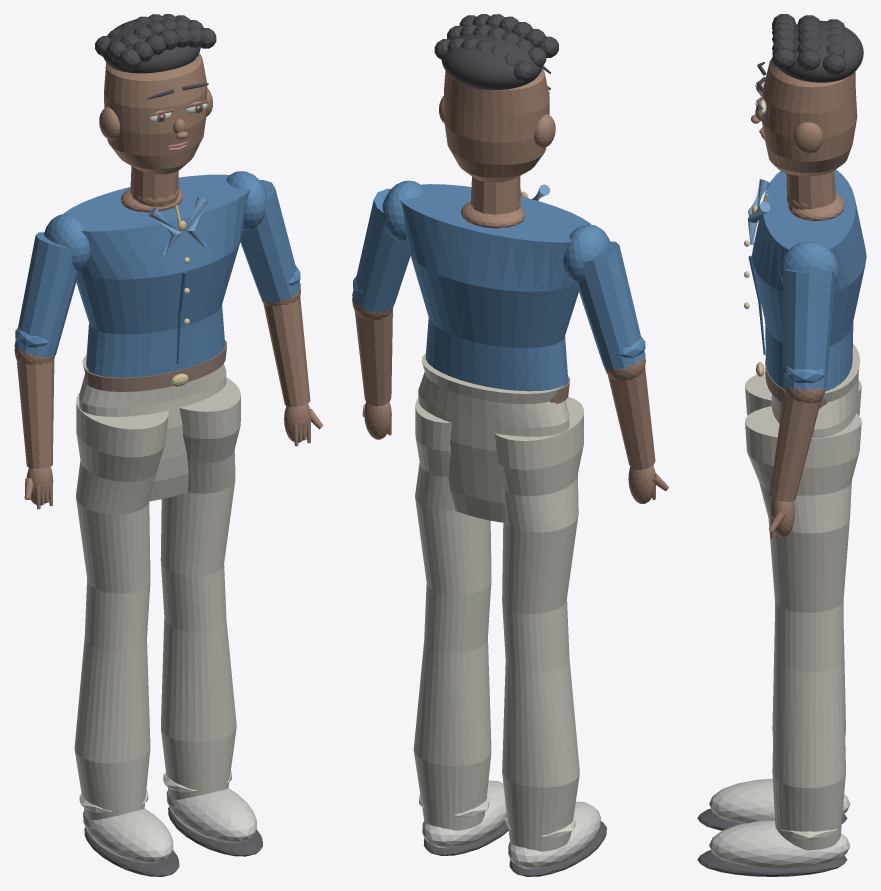
The model's file is kai_model_v1_3.glb.
3 renders of one model, left to right at view 1: azimuth 30°, elevation 25°; view 2: azimuth 150°, elevation 25°; view 3: azimuth 270°, elevation 25°, orthographic. The views are drawn at different scales.
Parts seen in each view (by area): view 1: L_trouser_003, R_trouser_007, torso_010, face_skin_044, pelvis_009, L_upper_arm_020, R_upper_arm_031, L_shoe_001, R_shoe_005, L_forearm_023, R_forearm_034, belt_017 (+8 smaller); view 2: L_trouser_003, torso_010, R_trouser_007, pelvis_009, face_skin_044, L_upper_arm_020, R_upper_arm_031, hair_cap_065, L_forearm_023, R_forearm_034, L_shoe_001, R_shoe_005 (+8 smaller); view 3: R_trouser_007, torso_010, face_skin_044, R_upper_arm_031, R_shoe_005, R_forearm_034, L_shoe_001, pelvis_009, hair_cap_065, R_sole_006, R_shoulder_cap_030, neck_042 (+13 smaller).
Part boxes in pixels (x1,y1,x2,y2): L_trouser_003: (74, 393, 168, 820); R_trouser_007: (160, 377, 240, 799); torso_010: (63, 174, 249, 377); face_skin_044: (104, 53, 207, 174); pelvis_009: (79, 355, 226, 501); L_upper_arm_020: (14, 232, 78, 357); R_upper_arm_031: (240, 179, 300, 302); L_shoe_001: (83, 808, 173, 863); R_shoe_005: (166, 788, 257, 842); L_forearm_023: (17, 359, 54, 468); R_forearm_034: (263, 297, 310, 406); belt_017: (84, 340, 226, 391); L_trouser_003: (494, 397, 583, 851); torso_010: (400, 184, 591, 391); R_trouser_007: (413, 398, 491, 830); pelvis_009: (418, 353, 569, 522); face_skin_044: (443, 68, 549, 182); L_upper_arm_020: (577, 241, 645, 369); R_upper_arm_031: (352, 188, 410, 312); hair_cap_065: (441, 32, 542, 90); L_forearm_023: (608, 367, 655, 469); R_forearm_034: (354, 309, 392, 406); L_shoe_001: (508, 801, 600, 869); R_shoe_005: (422, 780, 506, 848); R_trouser_007: (745, 406, 861, 850); torso_010: (752, 169, 866, 391); face_skin_044: (761, 57, 857, 176); R_upper_arm_031: (782, 269, 834, 389); R_shoe_005: (709, 820, 850, 868); R_forearm_034: (769, 392, 821, 501); L_shoe_001: (709, 779, 850, 823); pelvis_009: (771, 343, 860, 438); hair_cap_065: (772, 20, 863, 82); R_sole_006: (697, 850, 847, 876); R_shoulder_cap_030: (779, 241, 838, 286); neck_042: (786, 171, 835, 209).
Size of the model in its own units: 0.723 by 1.88 by 0.3499.
